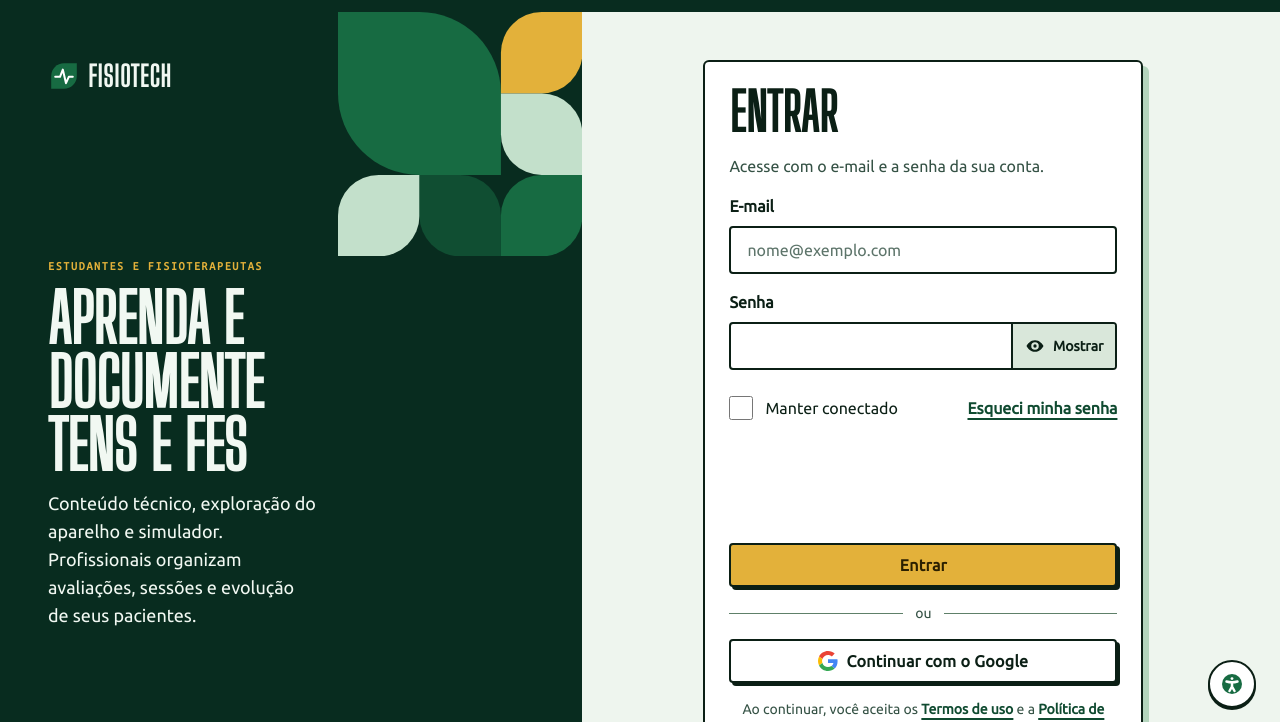
login com CAPTCHA ligado › naoDeveEntrarSemOTokenDoCaptcha
Type "ana@exemplo.com" into the field labelled "E-mail" at (923, 250), box [731,228,1115,272]
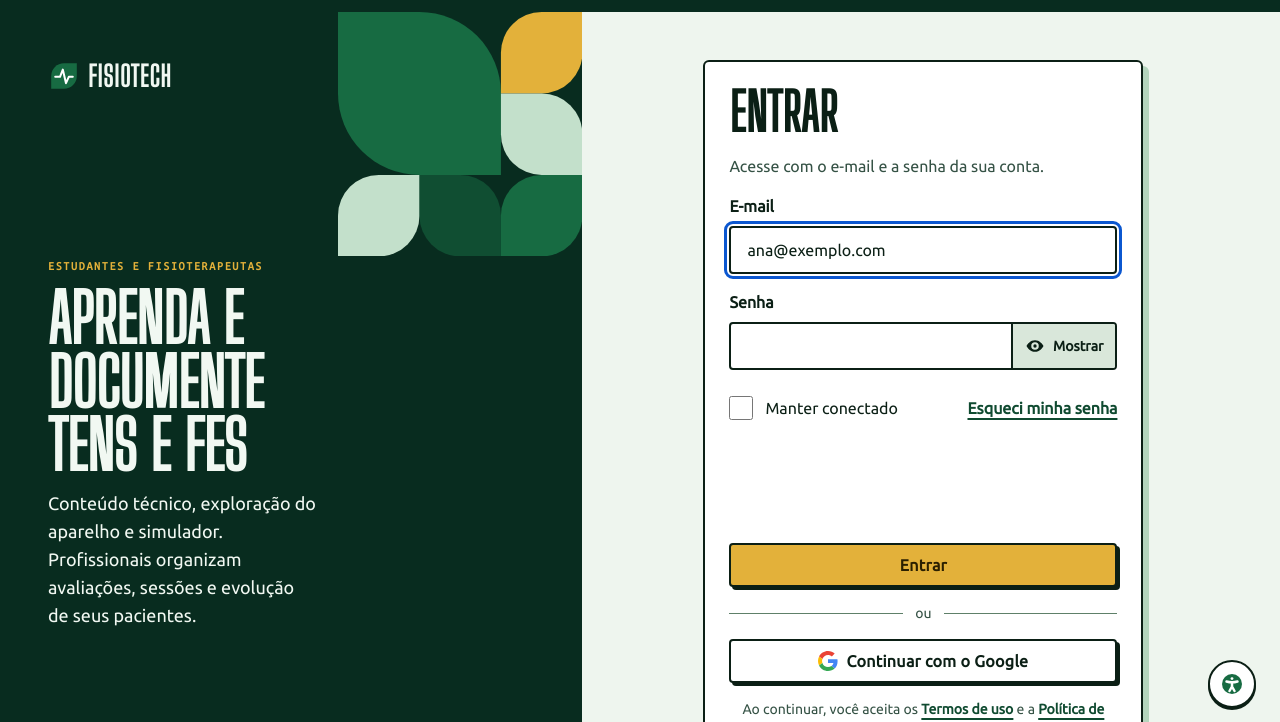
Type "SenhaForte1!" into the password field labelled "Senha" at (871, 346), box [731,324,1011,368]
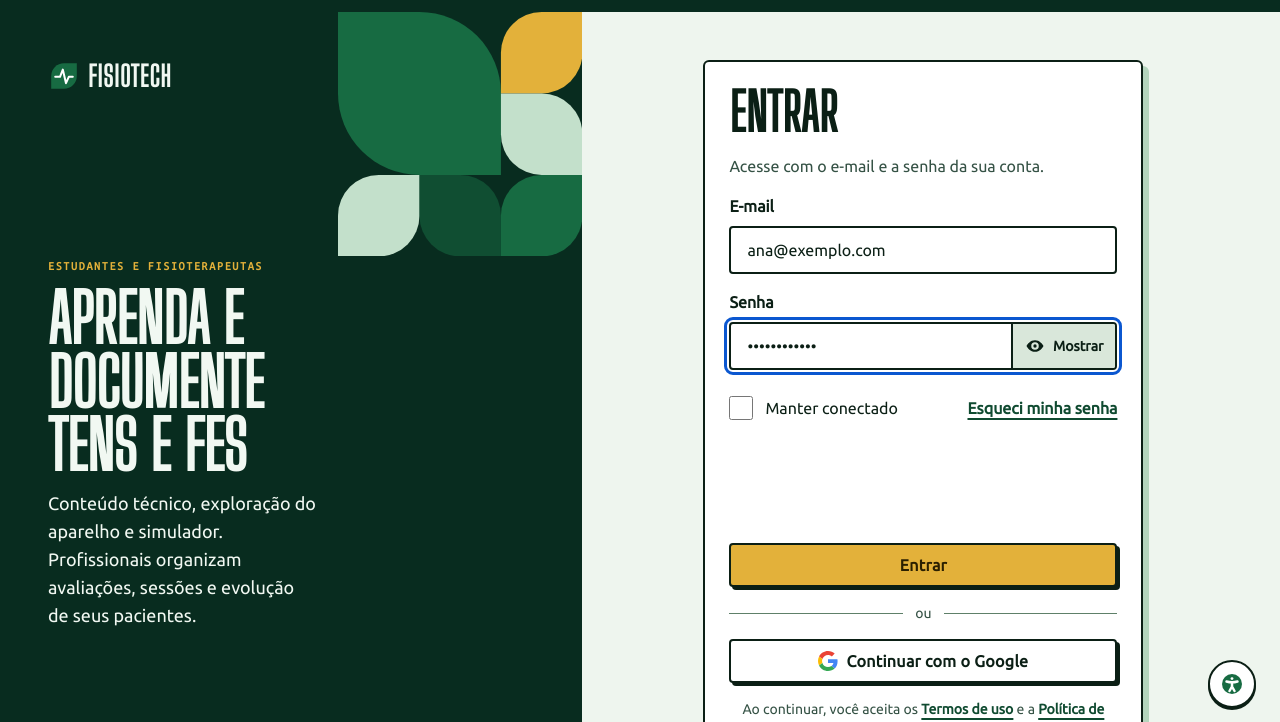
Click the button "Entrar" at (923, 565), box [729,543,1117,587]
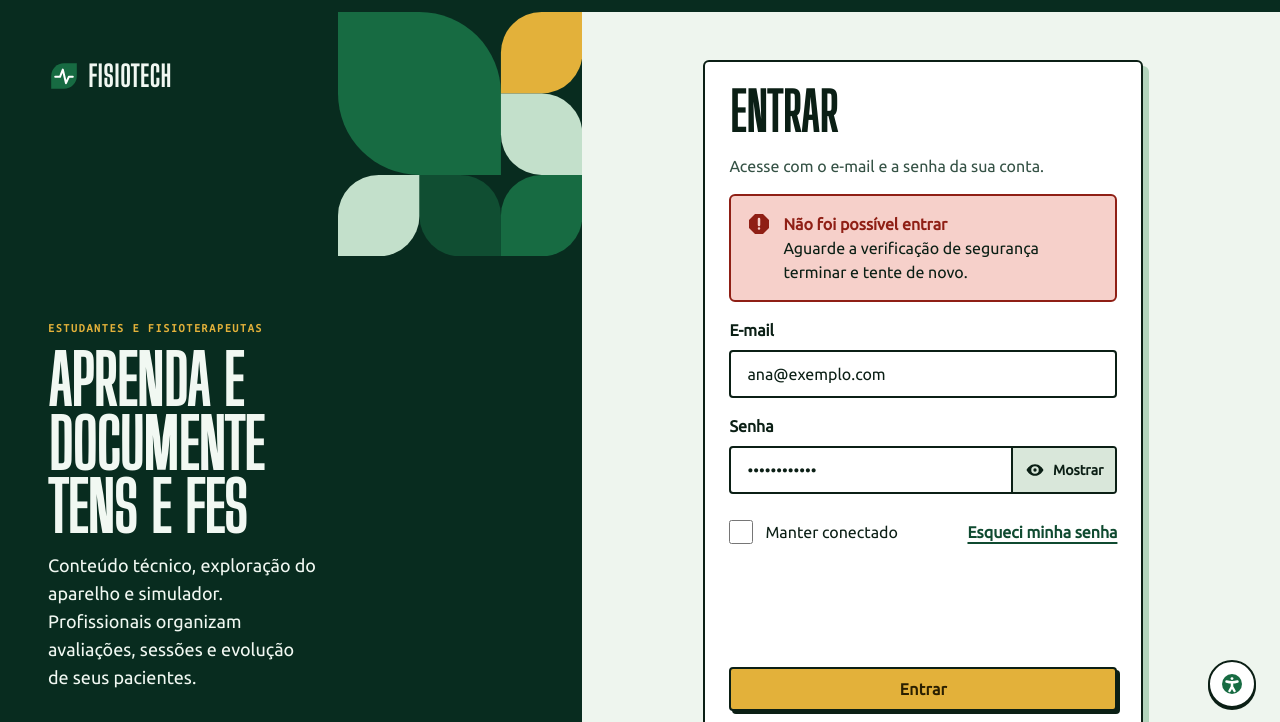
Expected: the text "Aguarde a verificação de segurança terminar e tente de novo." is shown, [783,239,1039,281]
